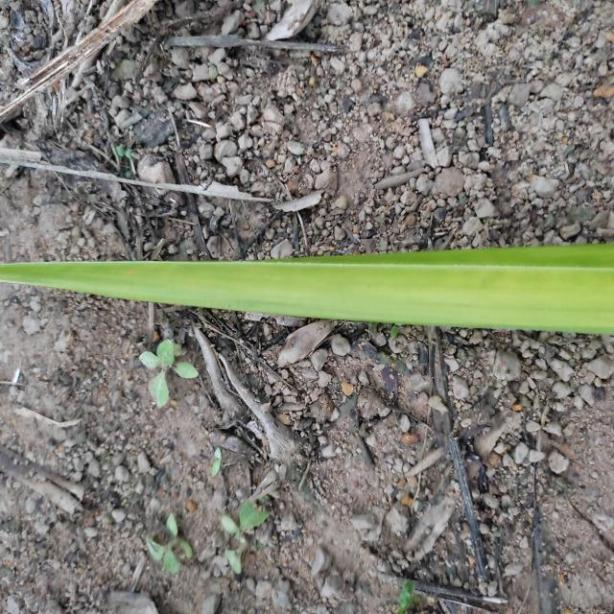nitrogen: (0, 238, 614, 338)
